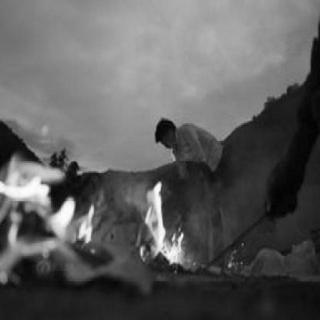Fire: (0, 128, 204, 287)
